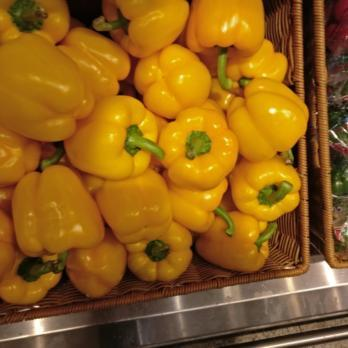Capsicum: (0, 0, 307, 270)
